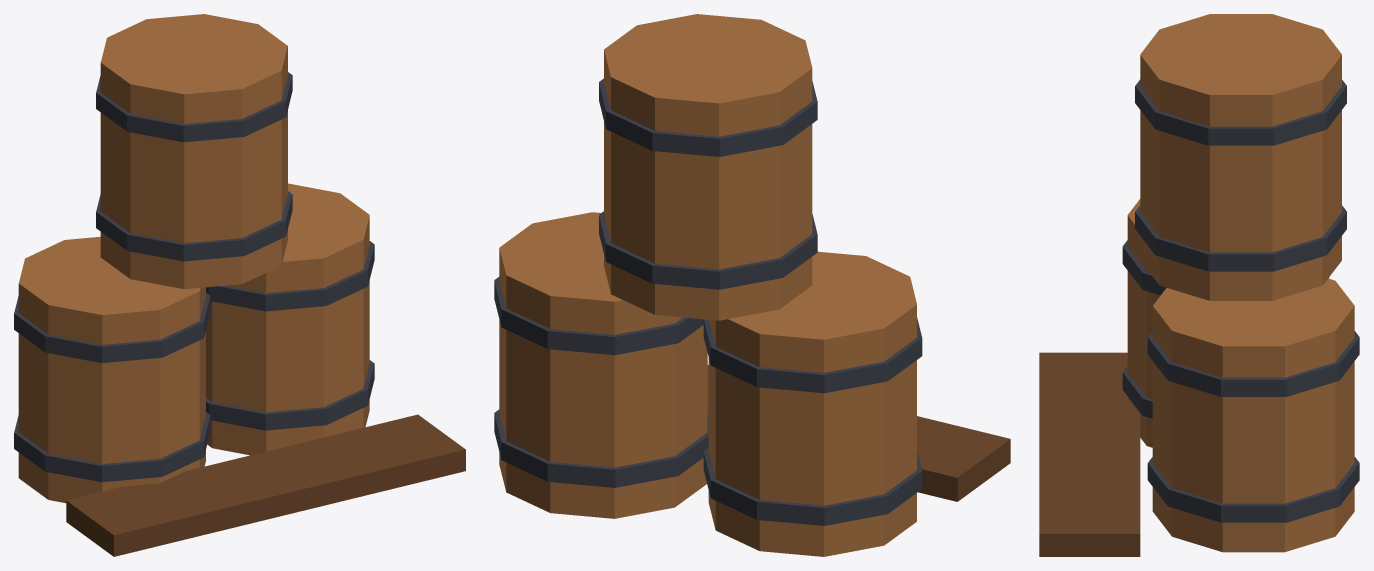
Rendered from mdl_z2_barriles.fbx.
The picture shows the model from 3 angles, left to right: view 1: azimuth 30°, elevation 25°; view 2: azimuth 150°, elevation 25°; view 3: azimuth 270°, elevation 25°; orthographic projection. The views are drawn at different scales.
Parts seen in each view (by area): view 1: mdl_z2_barriles; view 2: mdl_z2_barriles; view 3: mdl_z2_barriles.
Part boxes in pixels (x1,y1,x2,y2): mdl_z2_barriles: (14, 14, 465, 556); mdl_z2_barriles: (494, 14, 1010, 556); mdl_z2_barriles: (1039, 14, 1359, 556).
Bounding box in the file's own units: 340 × 360 × 254.
